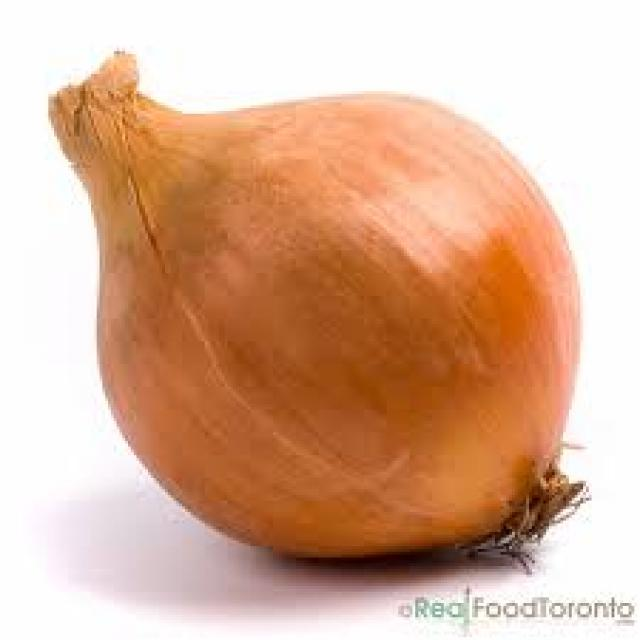organic waste: (45, 48, 586, 566)
